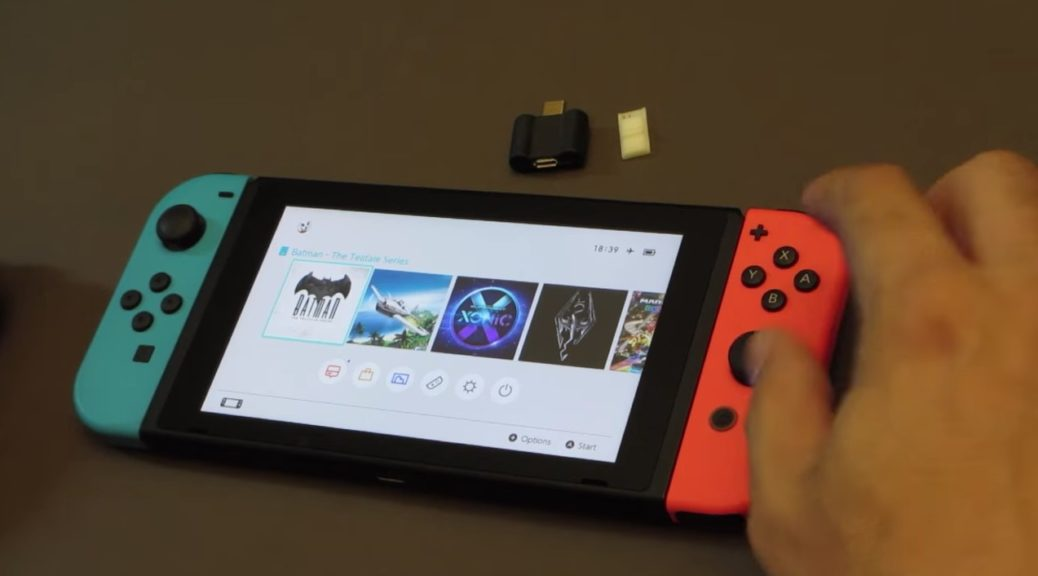NintendoSwitch: (64, 168, 864, 534)
